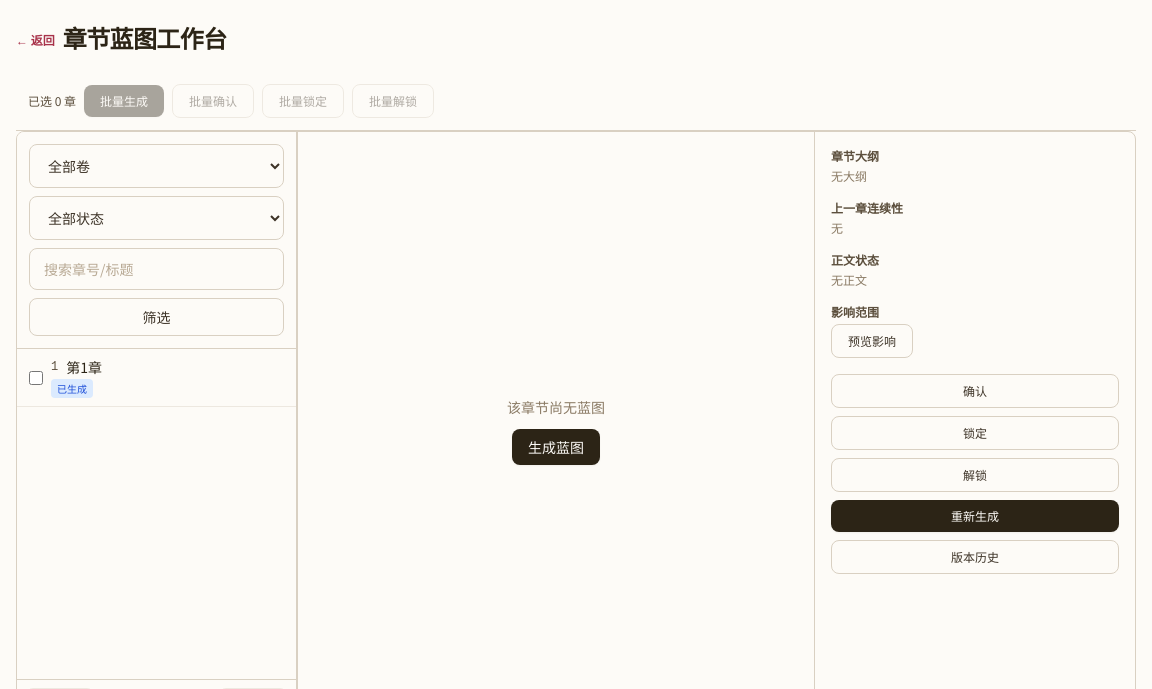
Test: ChapterBlueprintWorkbench › 版本比较使用后端差异结论处理数组字段
This screenshot has width=1152, height=689.
Click the list item "1 第1章 已生成": (156, 378) [17,349,296,407]
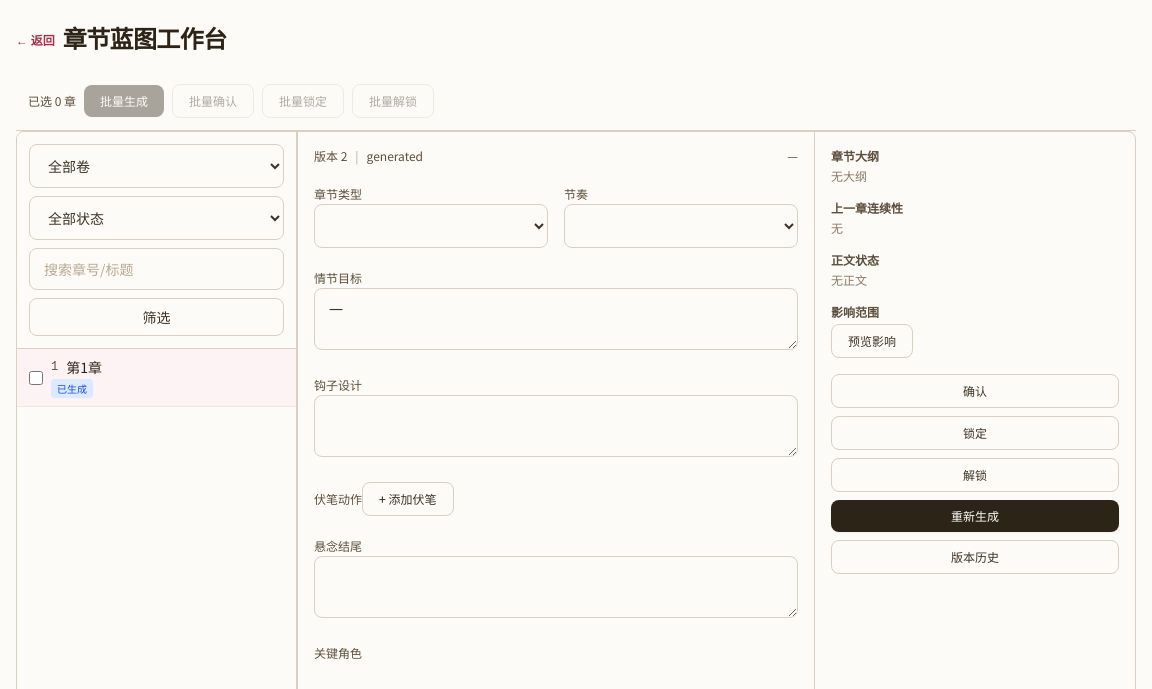
Click the button "版本历史": (975, 557) [831,540,1119,574]
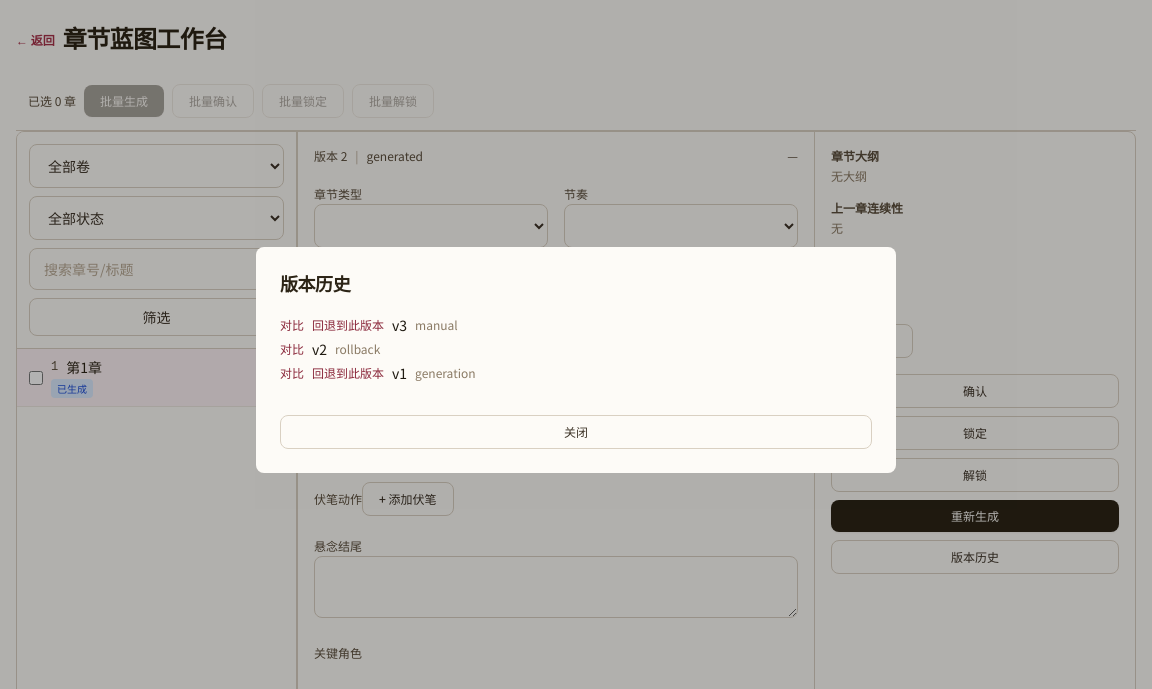
Click the button "对比" in the row of "v1": (292, 373) [280,365,304,381]
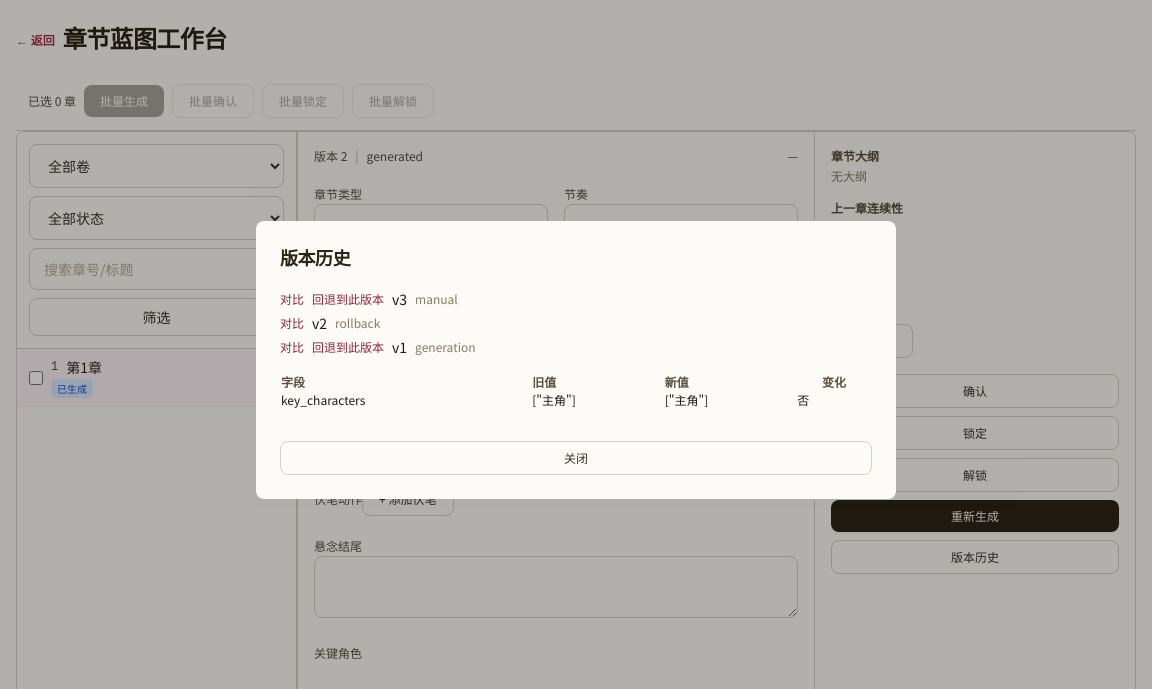
Now the table shows "否", box [797,391,809,408]
